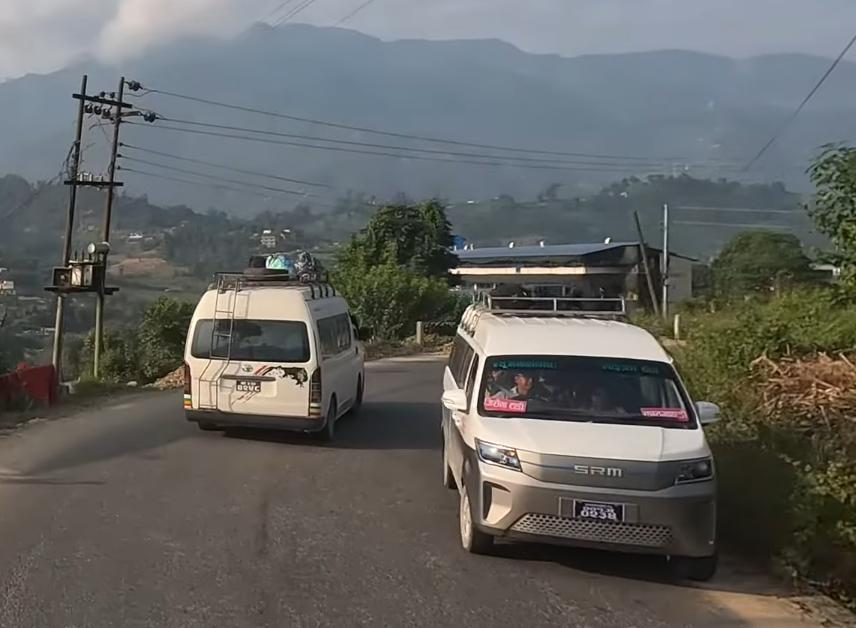micro_bus: (444, 285, 729, 585), (185, 253, 375, 445)
